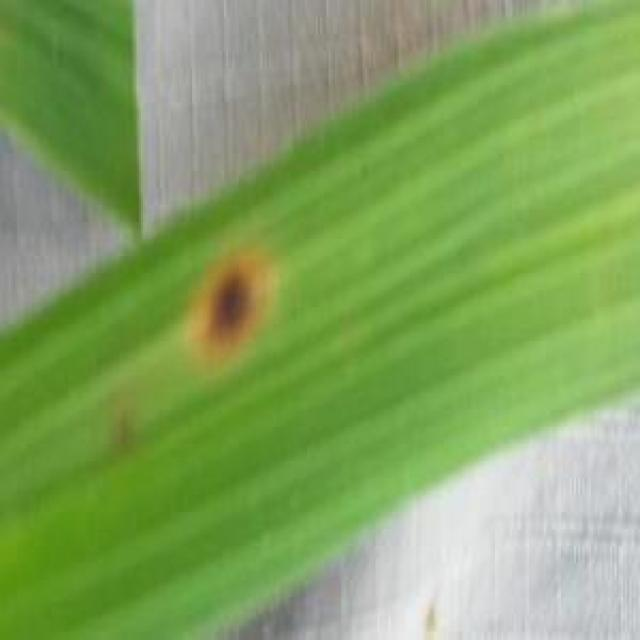brownspots: (190, 266, 271, 348)
